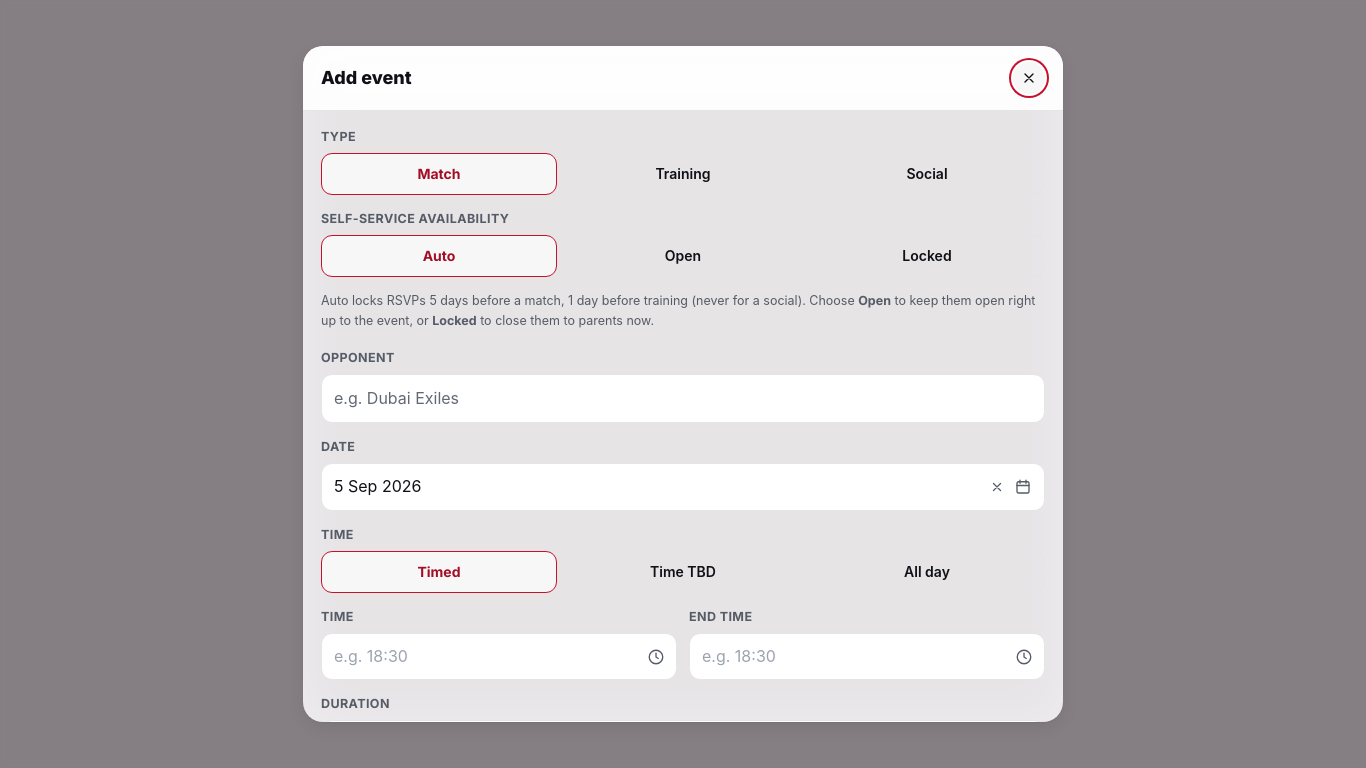
EventForm — conditional fields › does the same for social
The width and height of the screenshot is (1366, 768).
Click the radio button labelled "Social".
click(927, 174)  # box [809,153,1045,195]
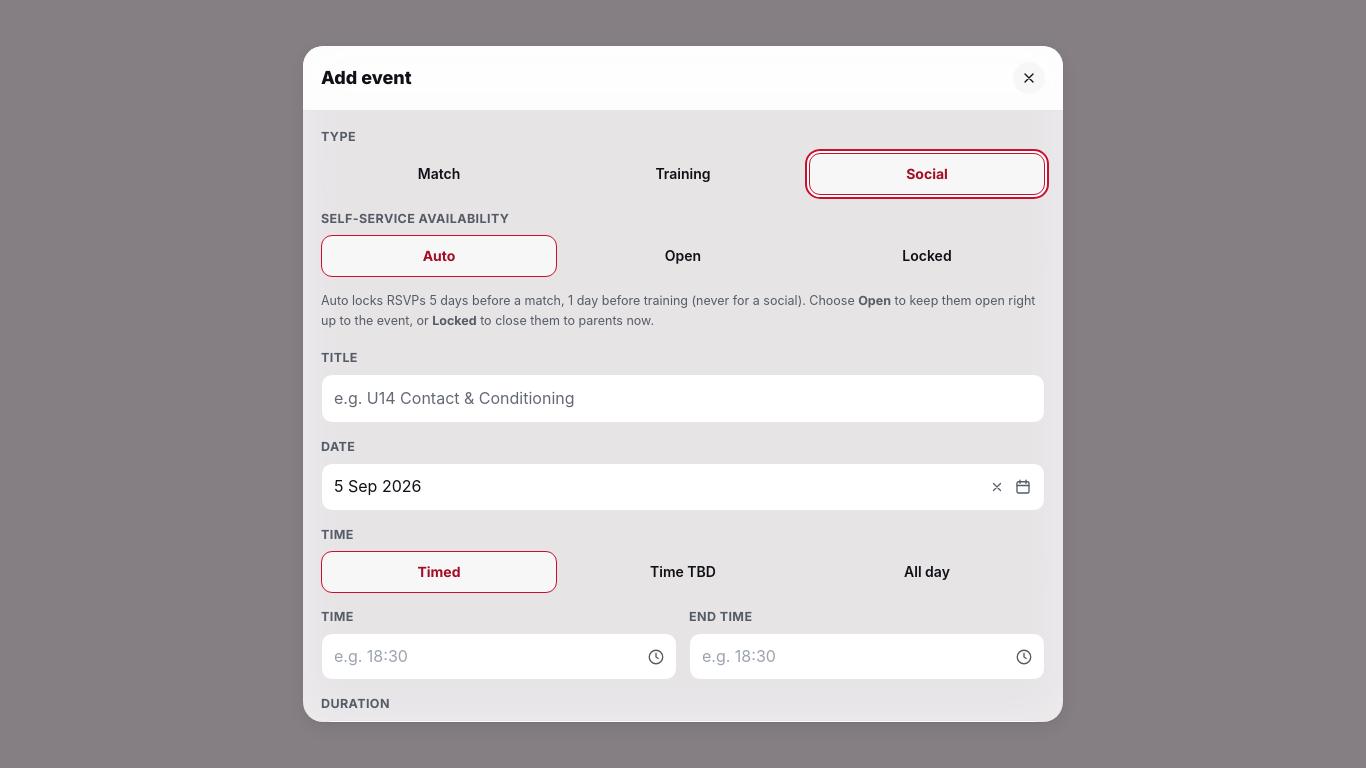
Expected: the field labelled "Title" is shown, [321,374,1045,423]
Expected: the label labelled "Opponent" is gone
